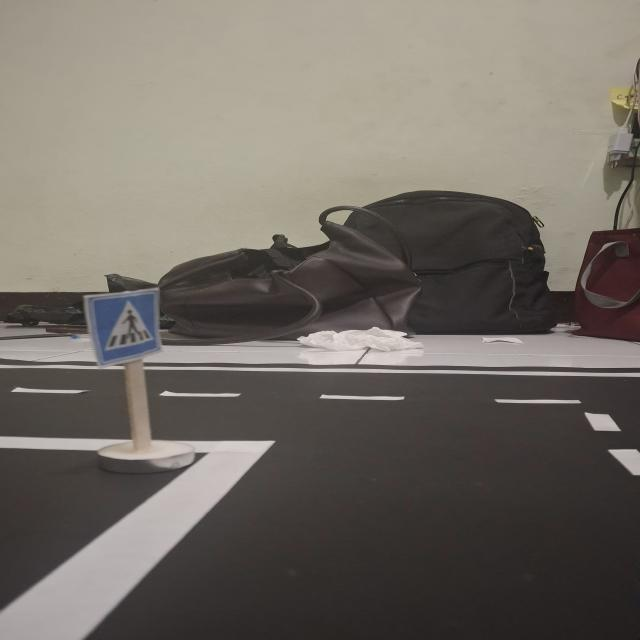Rambu Penyebrangan: (94, 294, 160, 361)
